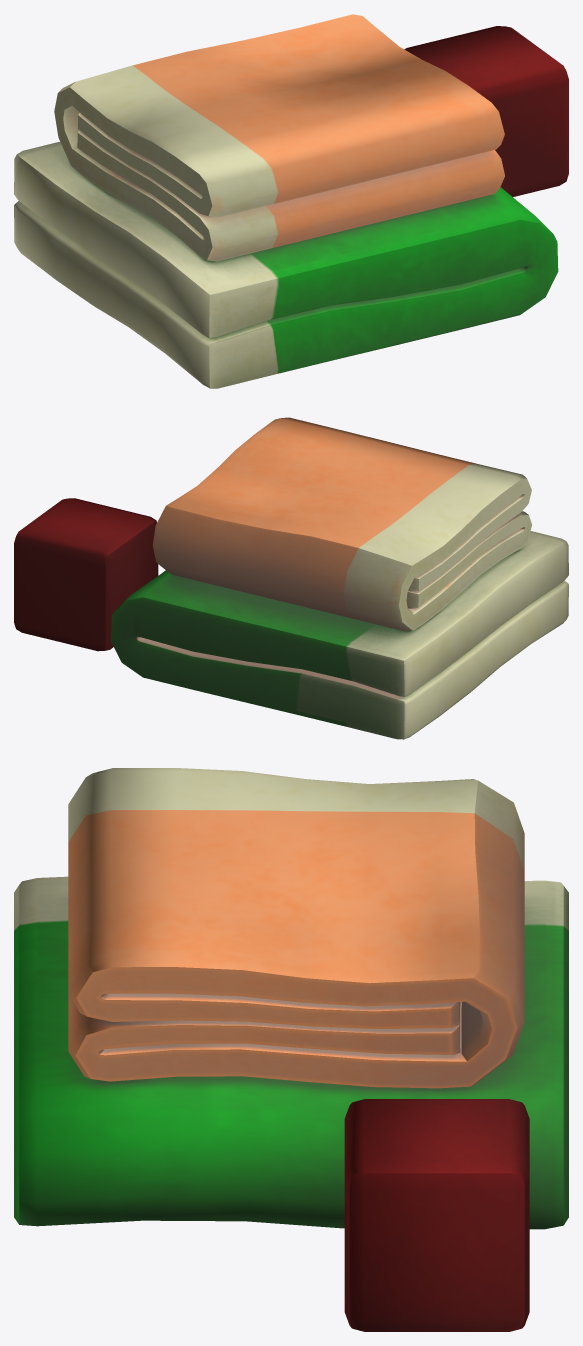
Rendered from SM_Blanket.fbx.
3 views of the same model, one above another, from view 1: azimuth 30°, elevation 25°; view 2: azimuth 150°, elevation 25°; view 3: azimuth 270°, elevation 25° (orthographic). The views are drawn at different scales.
Visible parts, largest first — view 1: SM_Blanket; view 2: SM_Blanket; view 3: SM_Blanket.
Part boxes in pixels (x1=…): SM_Blanket: x1=14, y1=14, x2=568, y2=388; SM_Blanket: x1=14, y1=417, x2=568, y2=739; SM_Blanket: x1=14, y1=768, x2=568, y2=1331.
Bounding box in the file's own units: 108 × 76.94 × 40.86.
1 material, 1 textured.
